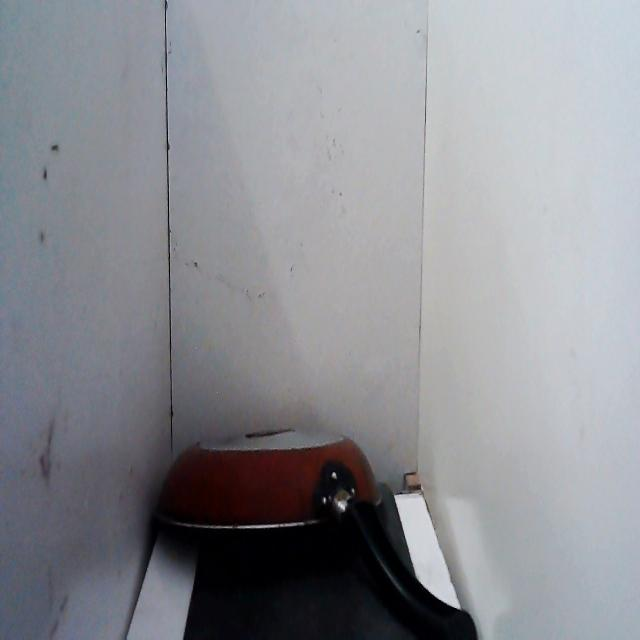metal: (148, 420, 480, 640)
